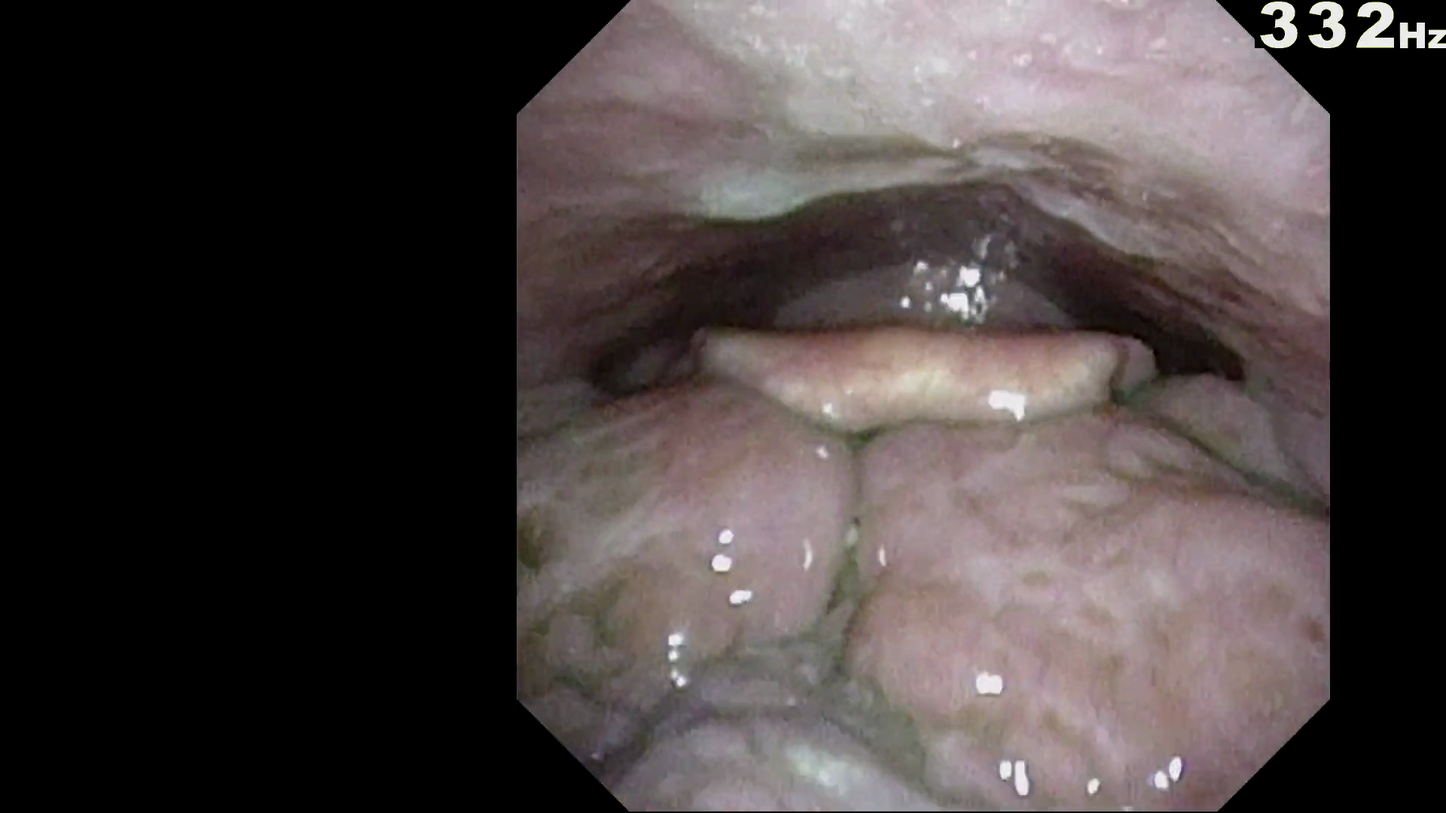epiglottis: (632, 425, 1190, 561)
trachea: (845, 414, 1005, 486)
